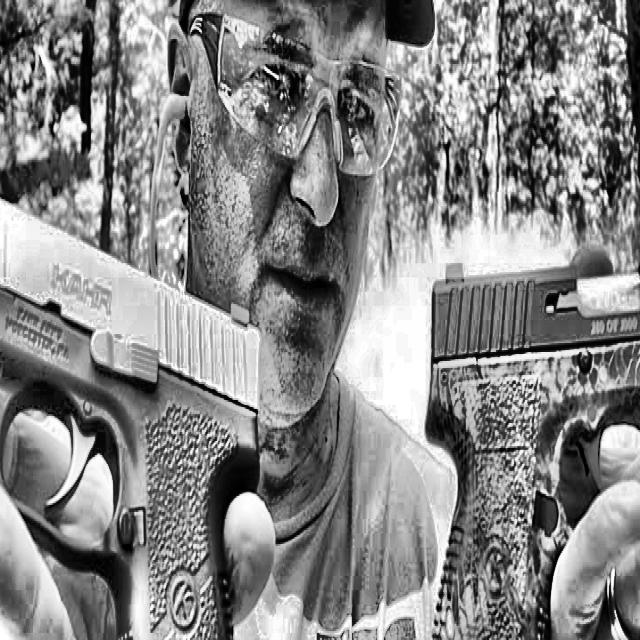Kahr: (0, 133, 264, 640), (414, 236, 640, 640)
